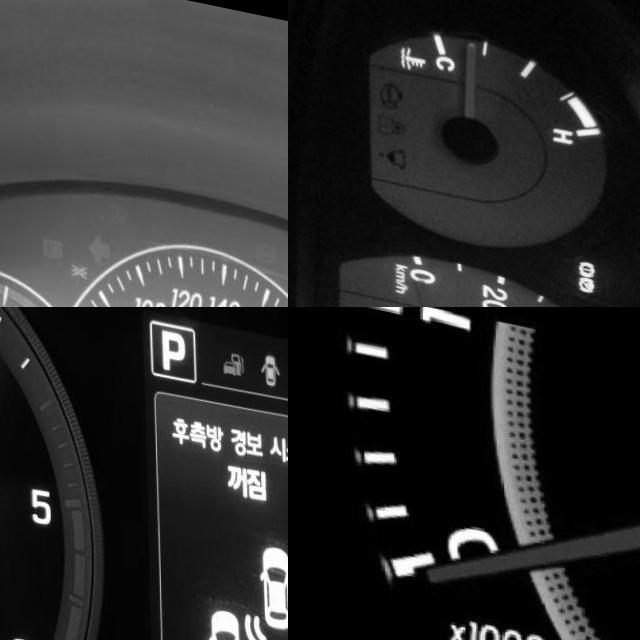Doors: (259, 335, 280, 372)
